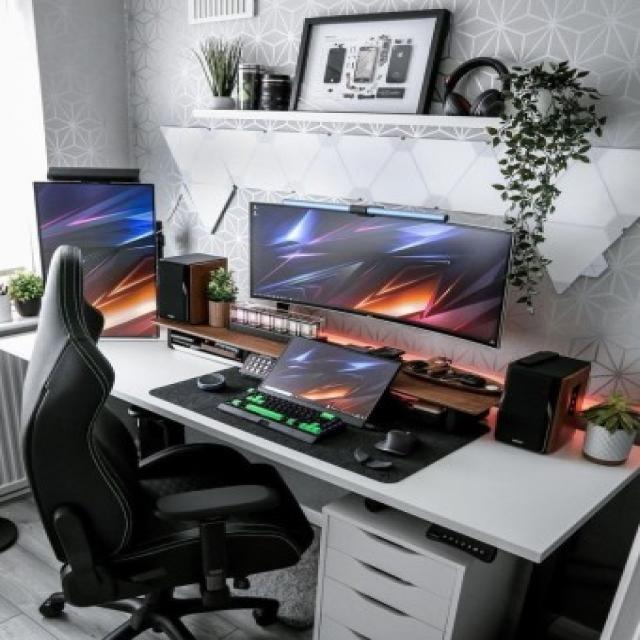Monitor: (242, 193, 516, 354), (30, 178, 166, 339)
